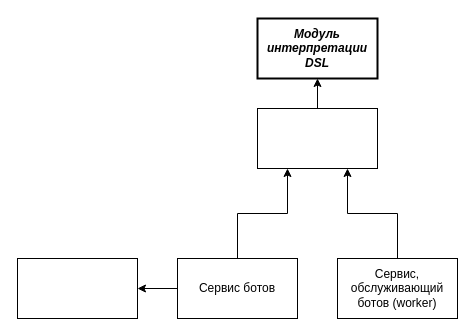
Some shapes in this 475 by 336 pixel diagram are drawn without their labels. The shapes that lost their labels are listed below. From the top down, each one's box as (x1, y1, x2, y2) in pixels, then its label:
(256, 108, 378, 168): Модуль компонентов
(16, 258, 138, 318): Сервис пользователя
